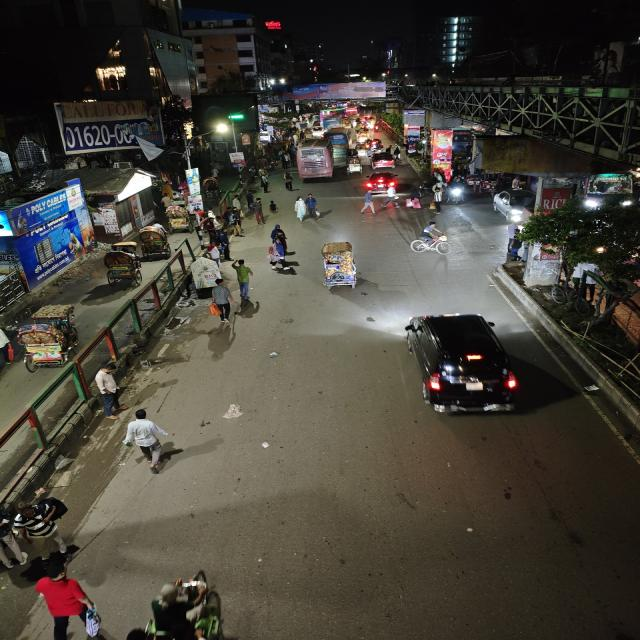bicycle: (406, 220, 458, 260)
bus: (295, 139, 338, 183), (324, 128, 350, 152), (324, 117, 341, 130)
car: (397, 309, 526, 421), (488, 187, 540, 224), (362, 170, 402, 194), (369, 152, 400, 170)
motorcycle: (136, 566, 243, 640)
pedestrian: (29, 556, 99, 640), (122, 406, 168, 474), (94, 365, 124, 419), (265, 227, 292, 271), (210, 278, 233, 324), (232, 258, 255, 298), (194, 263, 218, 299), (355, 190, 379, 218), (216, 226, 232, 260), (292, 194, 310, 224), (269, 223, 288, 251), (303, 193, 321, 221), (383, 185, 402, 211), (407, 186, 422, 218), (430, 188, 447, 215), (229, 209, 245, 237), (252, 200, 267, 227), (257, 170, 273, 193), (282, 172, 296, 192), (268, 199, 280, 215)
rickshaw: (14, 301, 83, 371), (317, 240, 369, 292), (99, 248, 144, 290), (124, 224, 172, 262), (164, 202, 193, 232), (344, 151, 365, 176)
